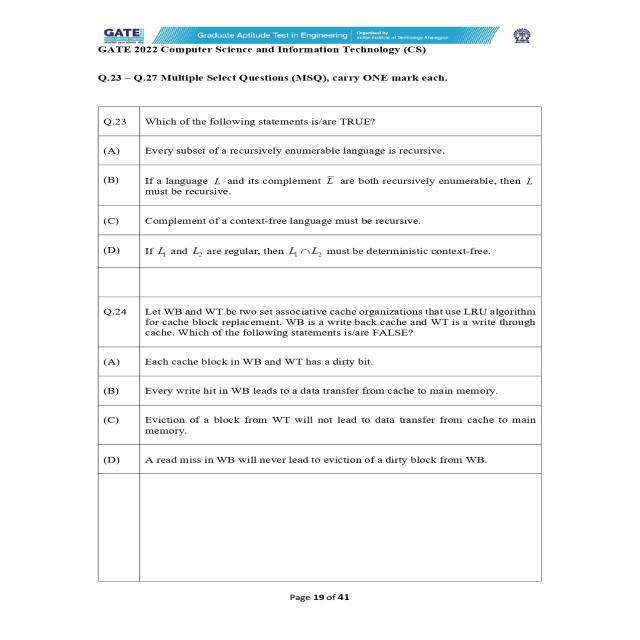Answer_Block: (98, 136, 541, 268), (98, 346, 540, 474)
Instruction: (97, 64, 540, 100)
Question_Answer_Block: (98, 296, 541, 474), (99, 106, 541, 268)
Question_Block: (98, 296, 542, 347), (98, 106, 541, 137)
Question_Paper_Area: (98, 106, 541, 474)
